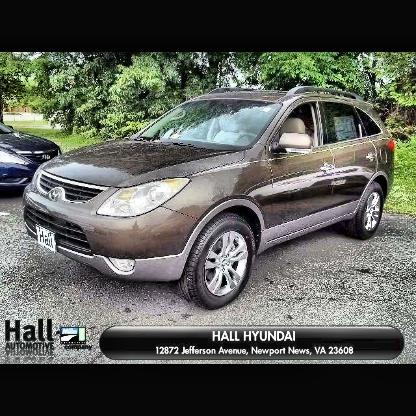Hyundai Veracruz SUV 2012: (25, 85, 396, 313)
